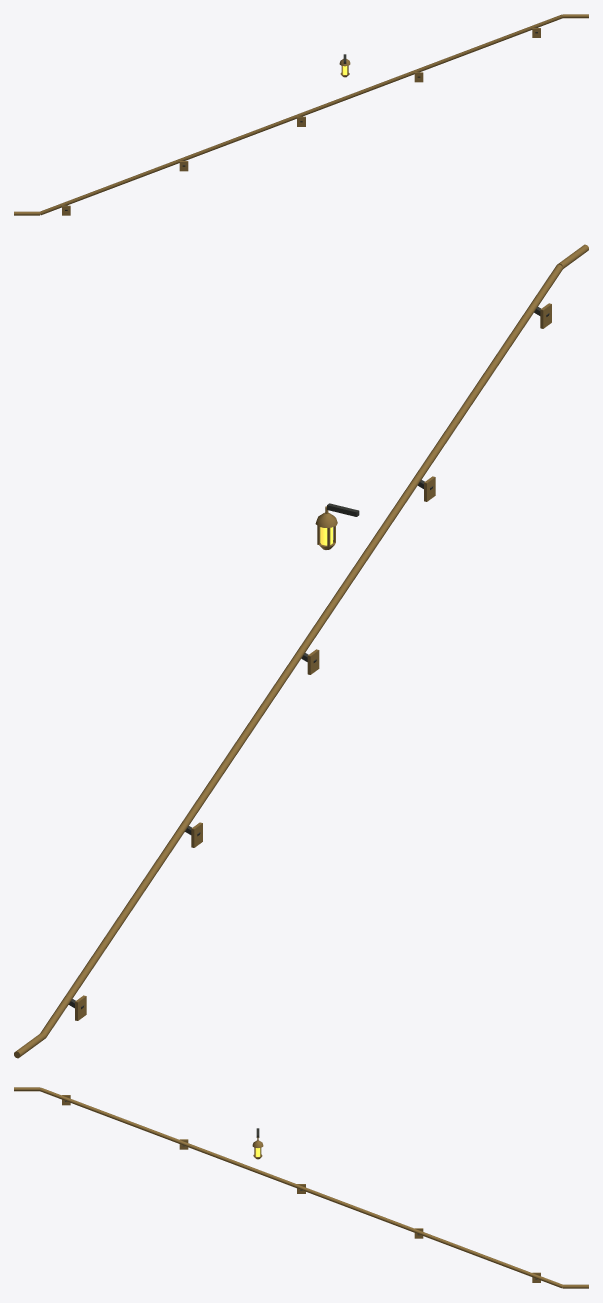
The model's file is stair_rail_12.glb.
3 views of the same model, one above another, from view 1: azimuth 90°, elevation 25°; view 2: azimuth 150°, elevation 25°; view 3: azimuth 270°, elevation 25° (orthographic). The views are drawn at different scales.
Parts seen in each view (by area): view 1: stair_rail_12; view 2: stair_rail_12; view 3: stair_rail_12.
Part boxes in pixels (x1,y1,x2,y2): stair_rail_12: (14,14,588,215); stair_rail_12: (14,244,588,1058); stair_rail_12: (14,1087,588,1288).
Bounding box in the file's own units: 0.5595 × 5.08 × 13.2.
